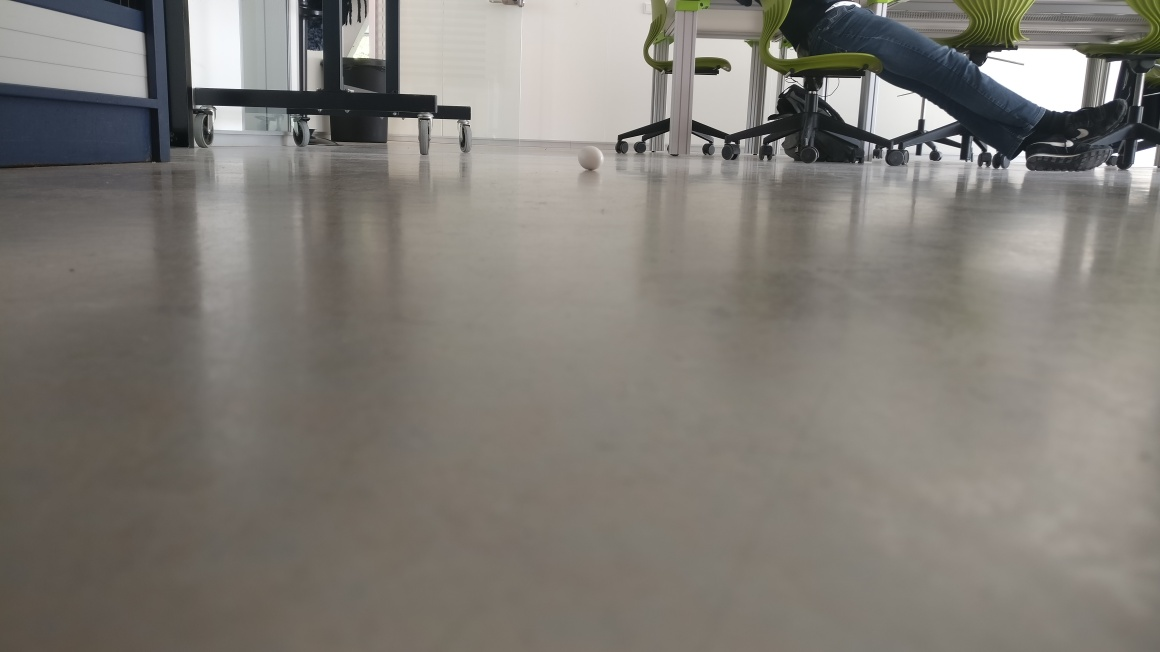egg: (577, 145, 605, 171)
